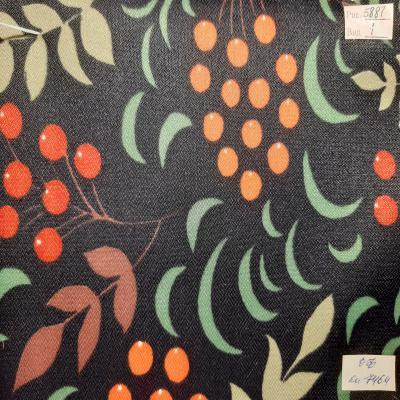other: (2, 2, 400, 400)
